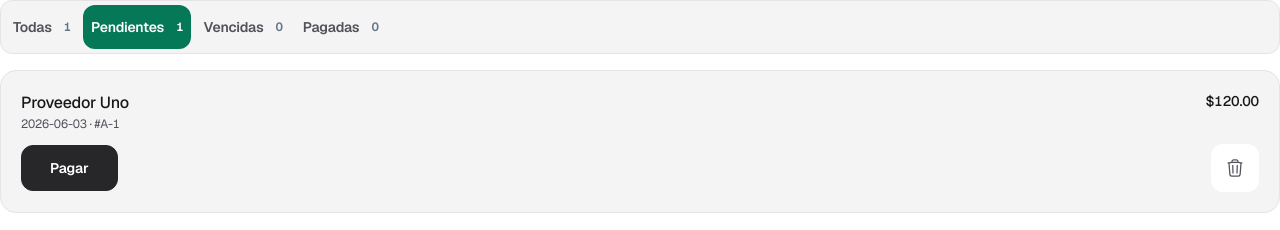
Test: InvoiceList › filters paid and unpaid empty states
Click the button "Pagadas 0" at x=341, y=27, box x1=295 y1=5 x2=387 y2=49
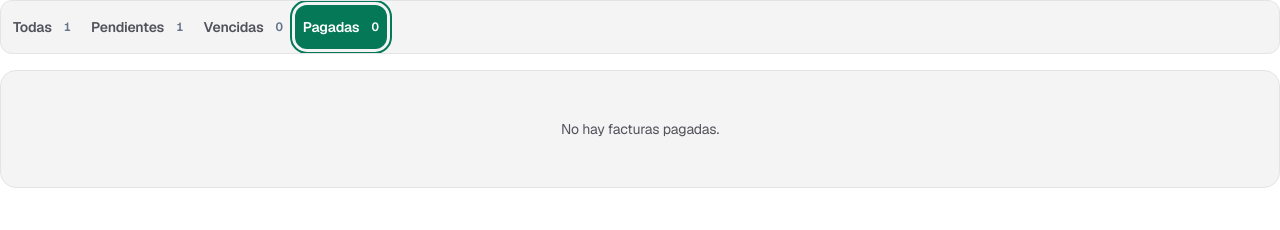
Now the text "No hay facturas pagadas." is shown, box x1=561 y1=119 x2=719 y2=139
Click the button "Pendientes 1" at x=137, y=27, box x1=83 y1=5 x2=191 y2=49
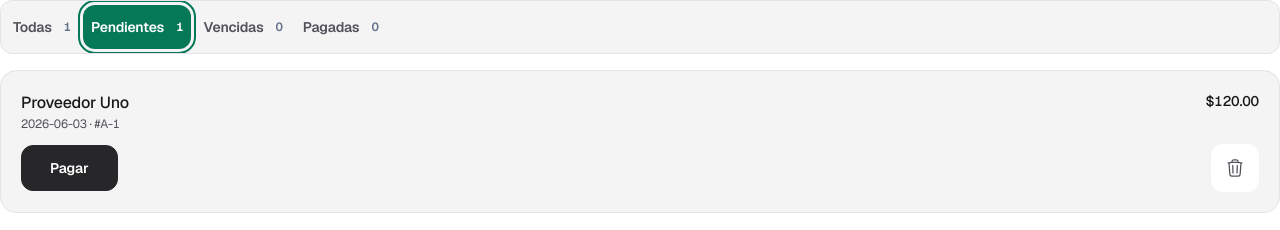
Now the text "Proveedor Uno" is shown, box x1=21 y1=91 x2=129 y2=116
